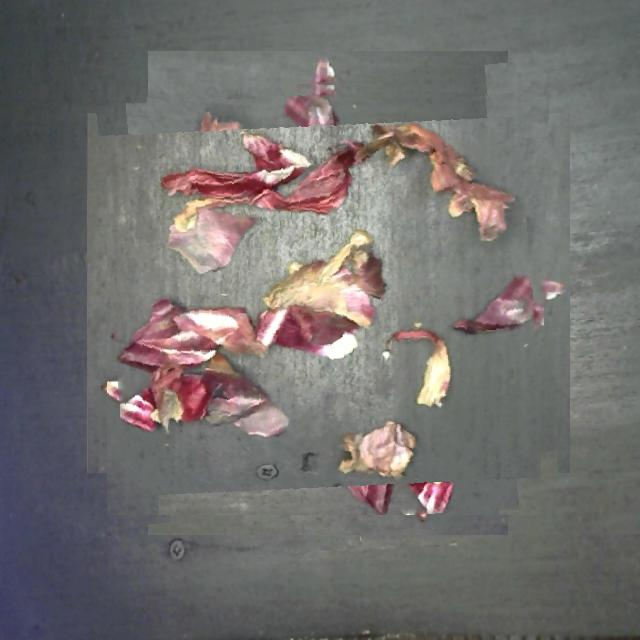biodegradable: (107, 72, 549, 515)
